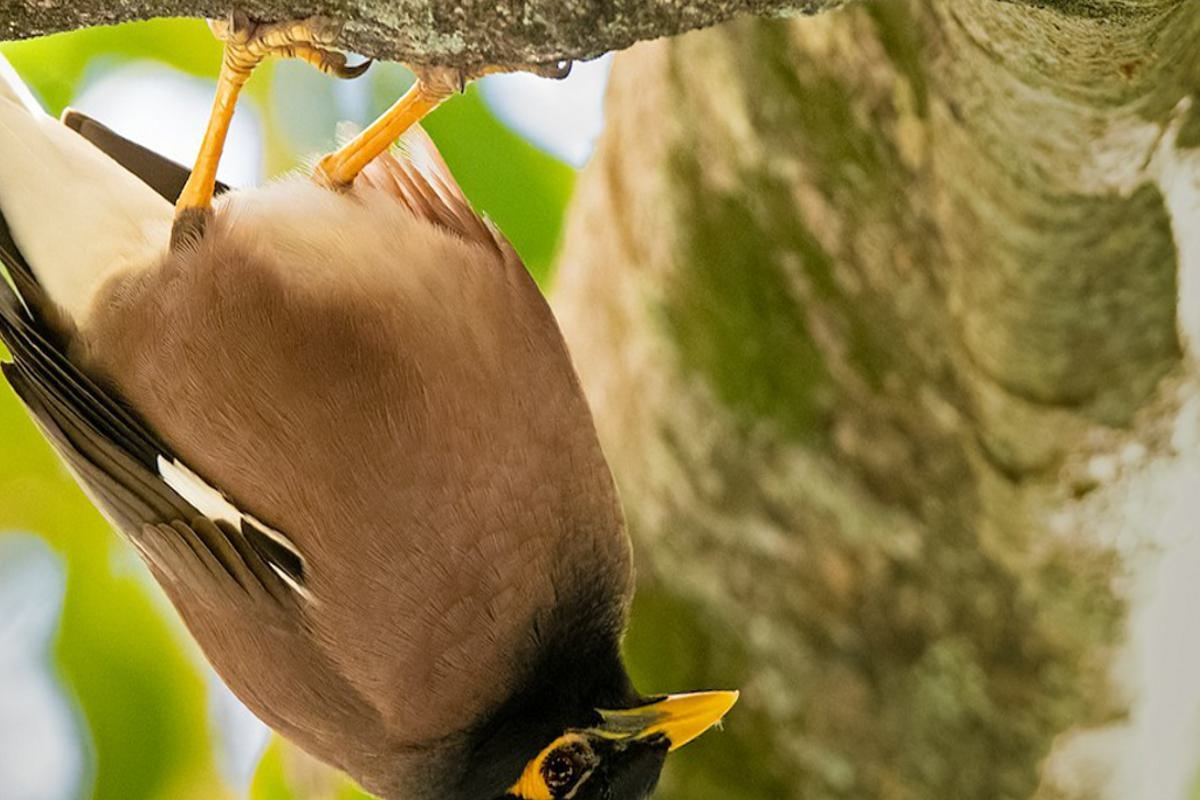myna: (137, 104, 744, 790)
